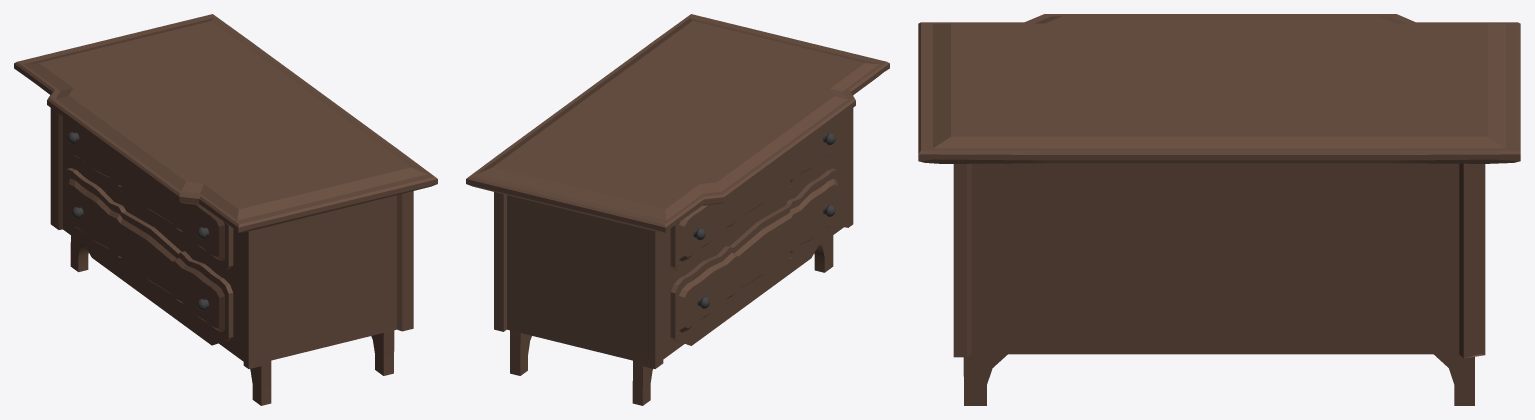
Rendered from meuble_couoloir.fbx.
The picture shows the model from 3 angles, left to right: view 1: azimuth 30°, elevation 25°; view 2: azimuth 150°, elevation 25°; view 3: azimuth 270°, elevation 25°; orthographic projection. The views are drawn at different scales.
Parts seen in each view (by area): view 1: pCube5; view 2: pCube5; view 3: pCube5.
Boxes of the visible parts, <box> form: pCube5: <box>14,14,437,405</box>; pCube5: <box>466,14,889,405</box>; pCube5: <box>918,14,1520,405</box>.
Size of the model in its own units: 840 by 782 by 1539.
